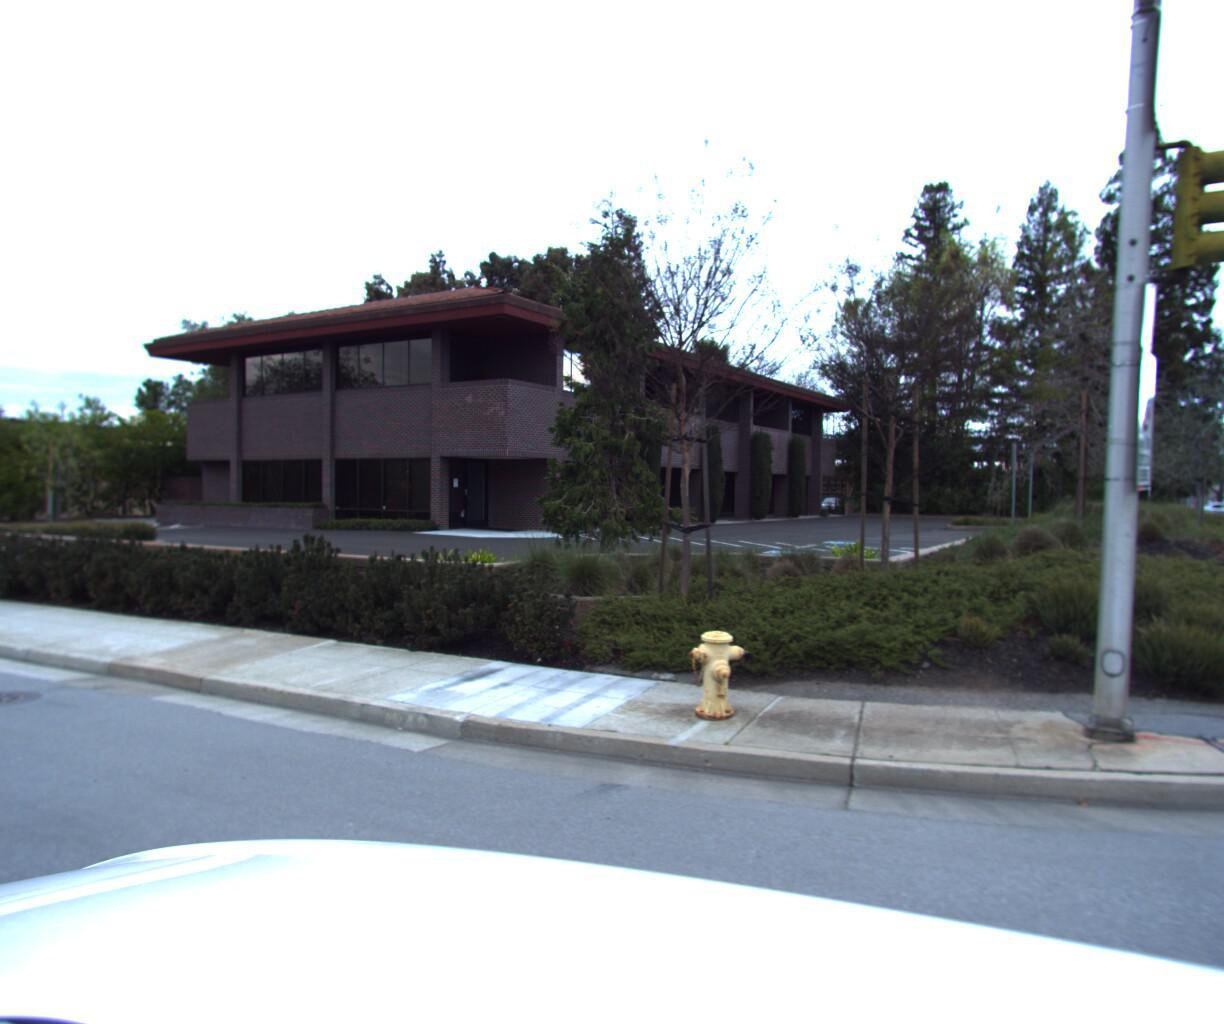car: (1201, 500, 1224, 524)
